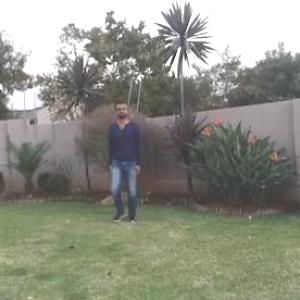follow: (108, 93, 146, 223)
